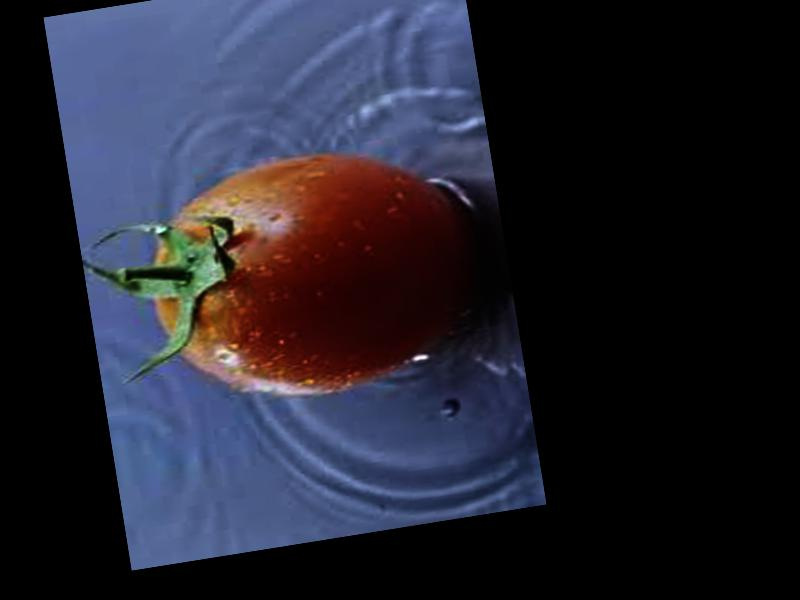Tomato: (138, 132, 495, 414)
